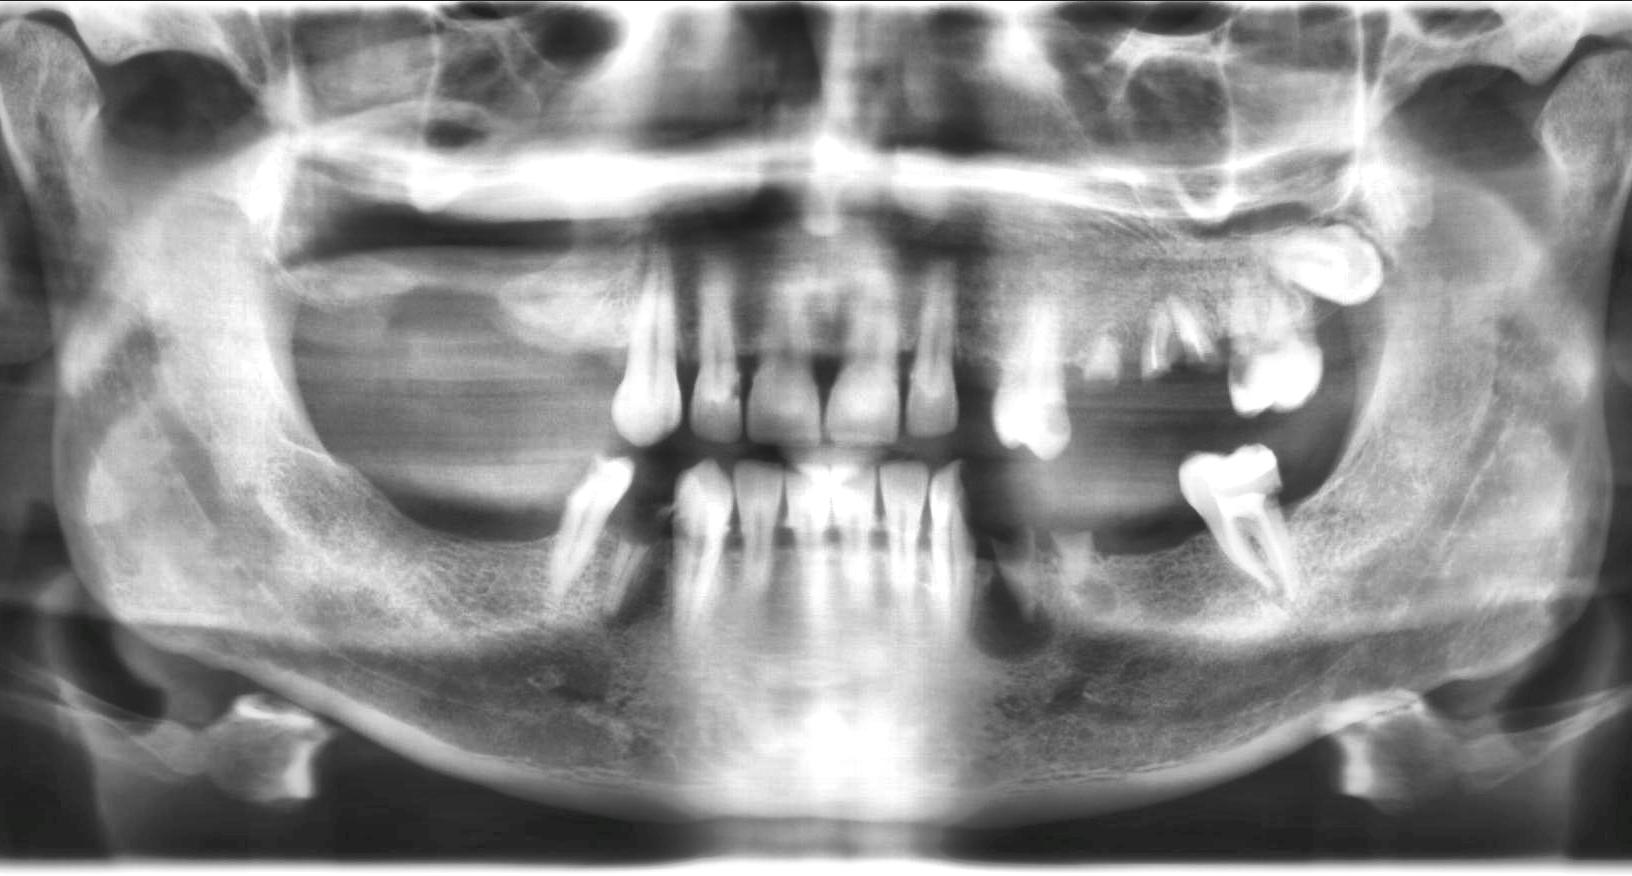radikuler: (968, 560, 1057, 668), (601, 556, 672, 626)
